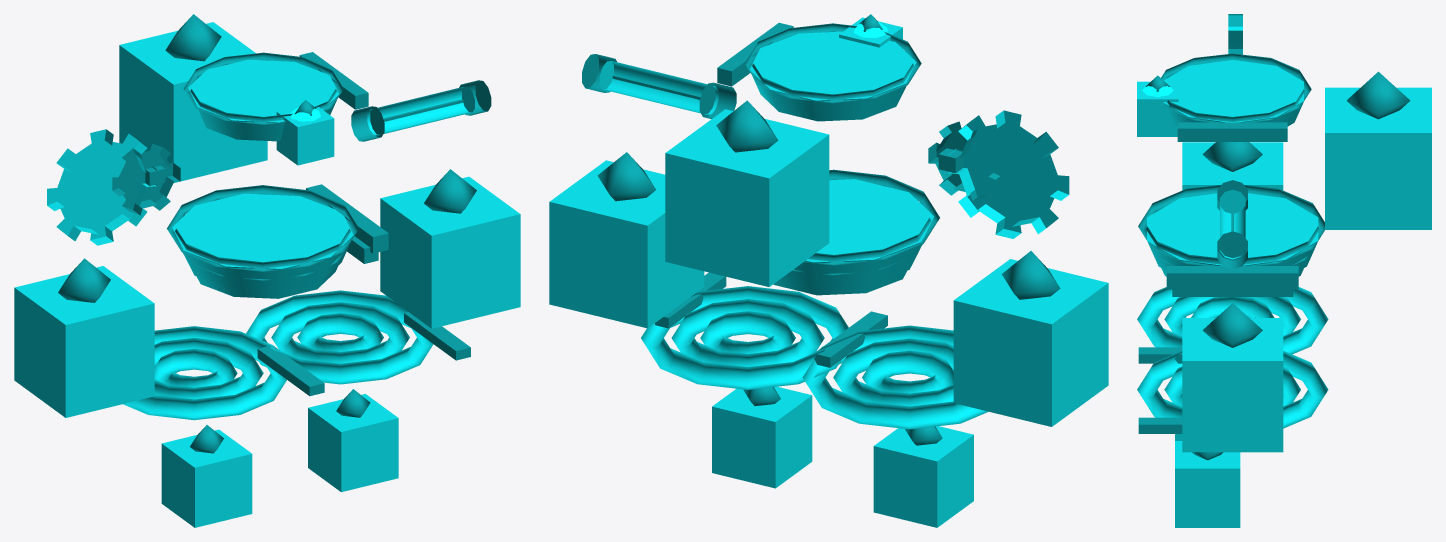
The model's file is golem_009.glb.
3 renders of one model, left to right at view 1: azimuth 30°, elevation 25°; view 2: azimuth 150°, elevation 25°; view 3: azimuth 270°, elevation 25°, orthographic. The views are drawn at different scales.
Visible parts, largest first — view 1: Body, Detail; view 2: Body, Detail; view 3: Body, Detail.
Part boxes in pixels (x1,y1,x2,y2): Body: (14,22,520,527); Detail: (58,14,491,453); Body: (549,17,1108,527); Detail: (582,14,1060,445); Body: (1137,14,1431,527); Detail: (1138,53,1410,460).
Bounding box in the file's own units: 1.3 × 1.13 × 0.744.
